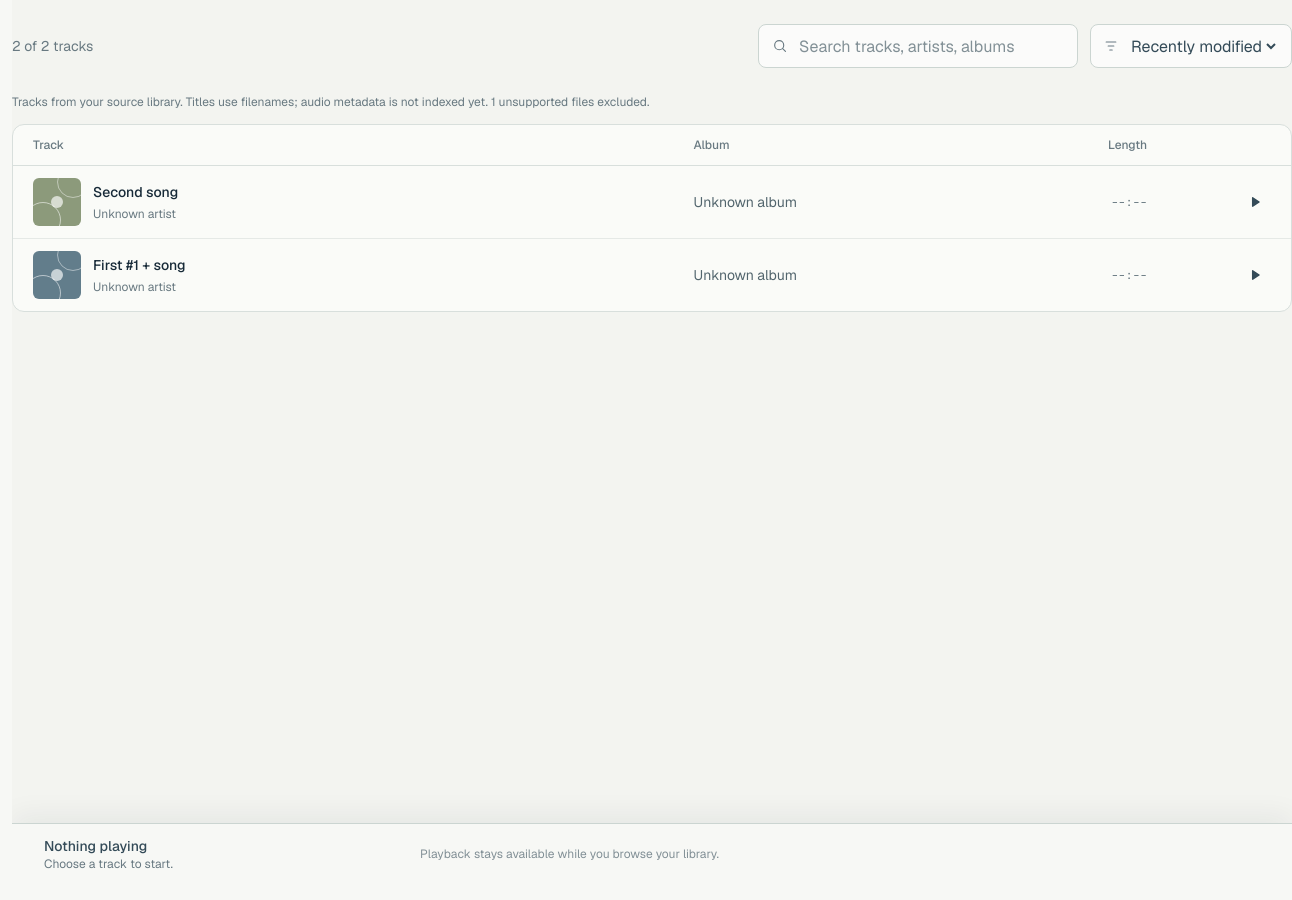
it: private library › sorts by filename title and searches object paths
This screenshot has width=1292, height=900.
Select "Title" in the dropdown named "Sort tracks": (1203, 46) [1127,34,1279,58]
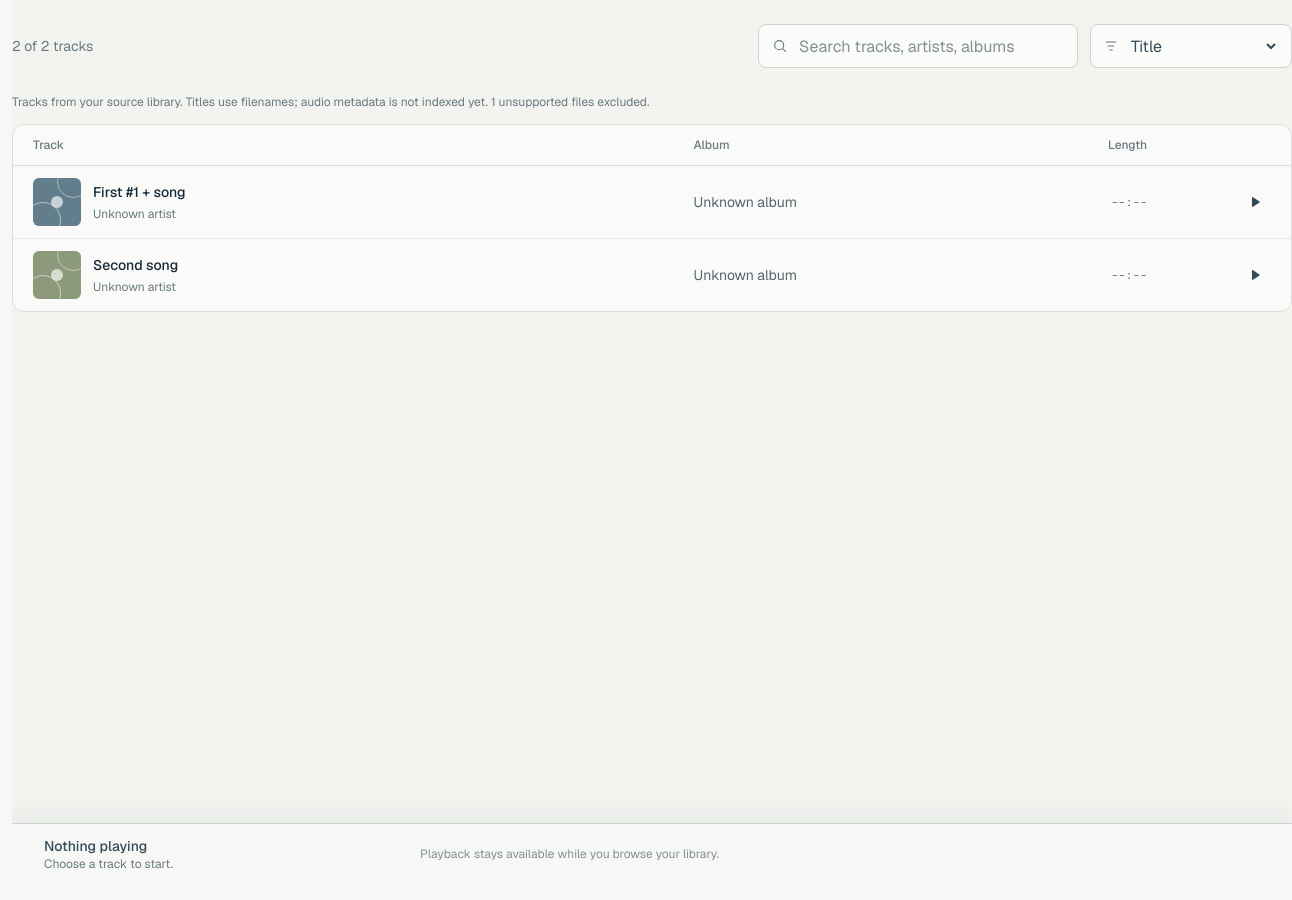
In the search field: (918, 46) [758,24,1078,68], type "Other/"
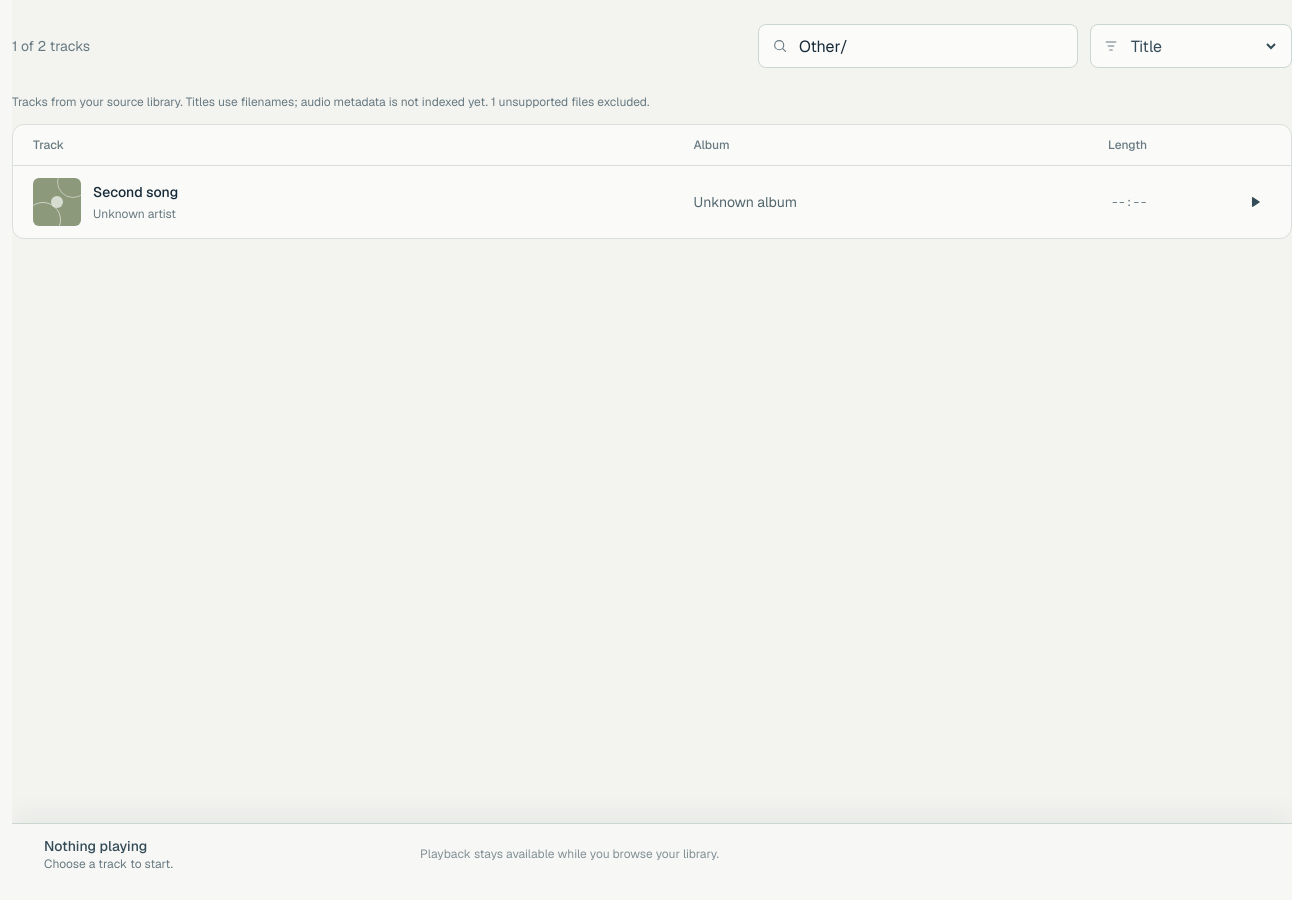
Expected: the text "Second song" is shown, [93,182,178,202]
Expected: the text "First #1 + song" is gone
